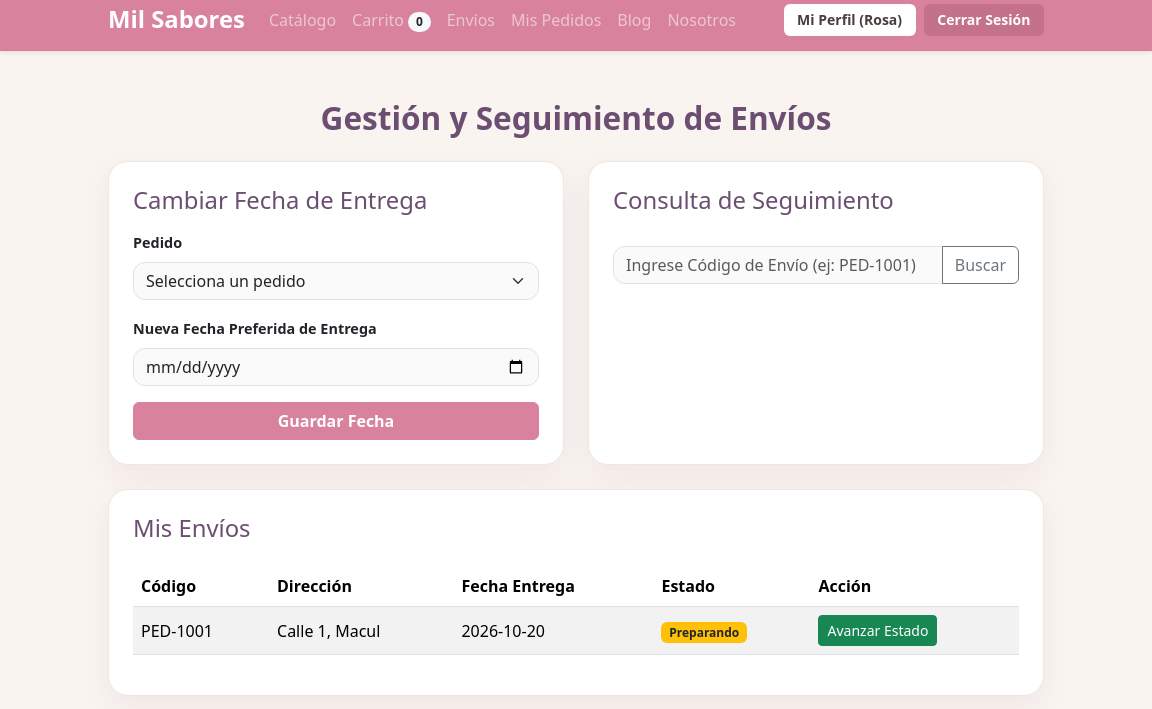
Test: Pruebas unitarias para la pagina de Envios en Pasteleria_MS › Avanza el estado del envio y muestra la notificacion
The image size is (1152, 709).
Step 1. Click the button "Avanzar Estado" → (878, 631), box [818,615,937,646]
(page scrolled)
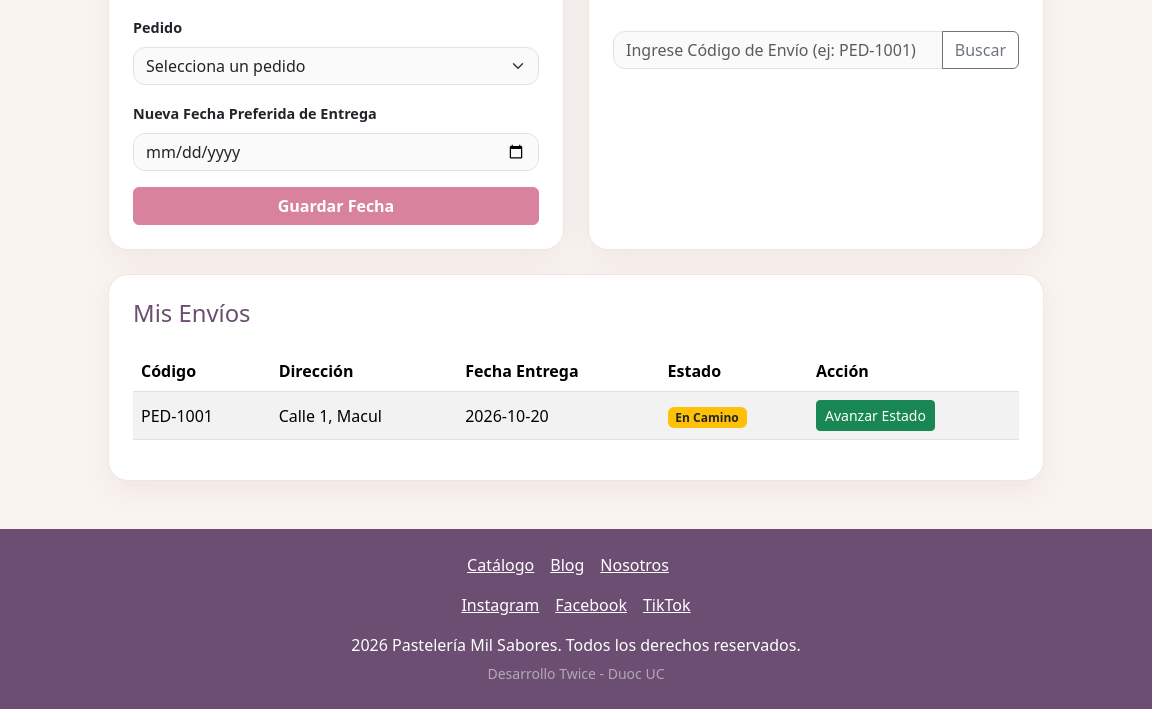
Expected: the text "En Camino" is shown, [668,407,746,428]
